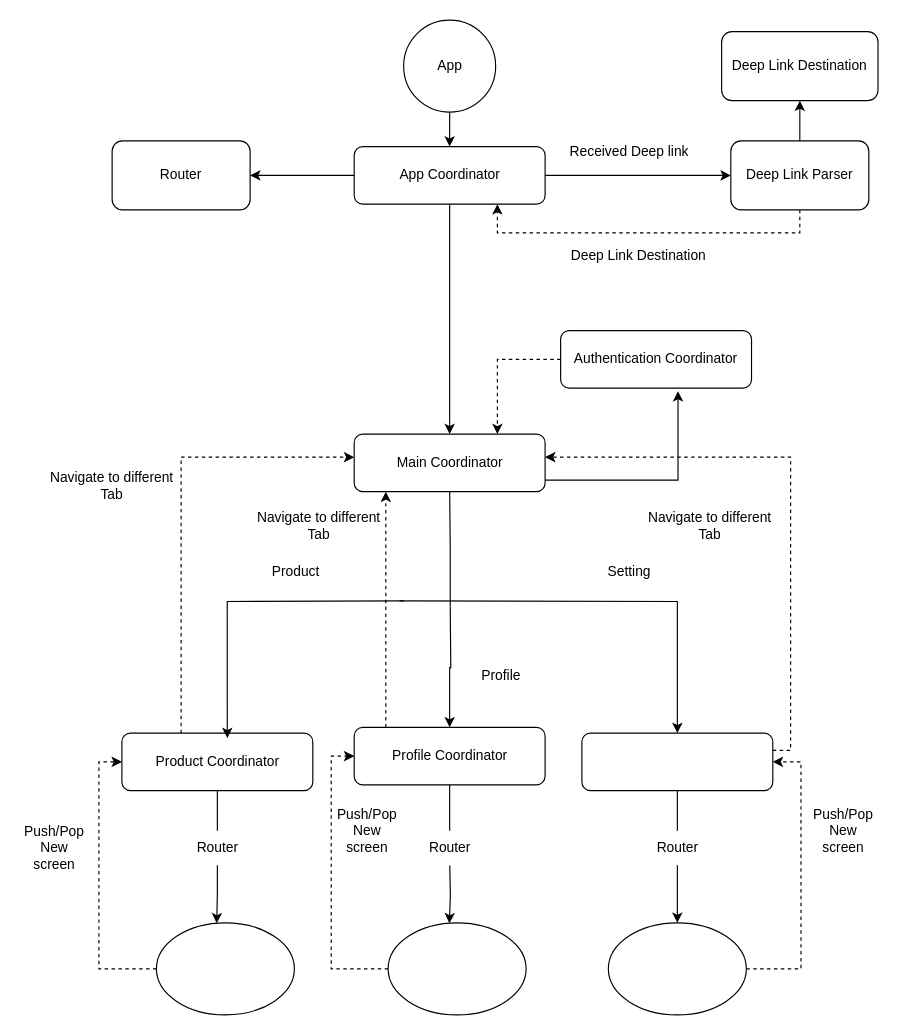
Image size: 898x1035. Some labels were removed from this diagram. Each missing label, with the box of its shape:
Product Journey: (155, 922, 294, 1015)
Profile Journey: (387, 922, 526, 1015)
Setting Coordinator: (581, 732, 773, 791)
Setting Journey: (607, 922, 746, 1015)
